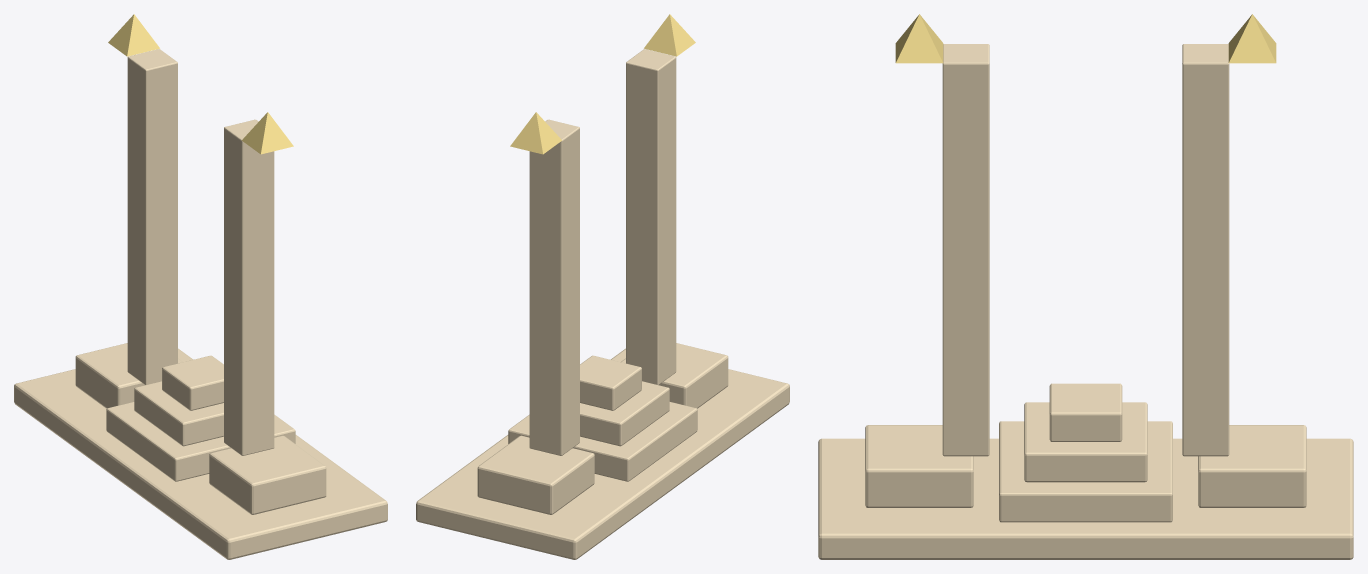
The model's file is lm_egito_obelisks.glb.
3 views of the same model, side by side, from view 1: azimuth 30°, elevation 25°; view 2: azimuth 150°, elevation 25°; view 3: azimuth 270°, elevation 25° (orthographic). The views are drawn at different scales.
Parts seen in each view (by area): view 1: lm_egito_obelisks; view 2: lm_egito_obelisks; view 3: lm_egito_obelisks.
Boxes of the visible parts, x1,y1,x2,y2 form: lm_egito_obelisks: (14, 14, 387, 559); lm_egito_obelisks: (416, 14, 789, 559); lm_egito_obelisks: (818, 14, 1353, 559).
Size of the model in its own units: 3.2 by 7.6 by 7.4.
